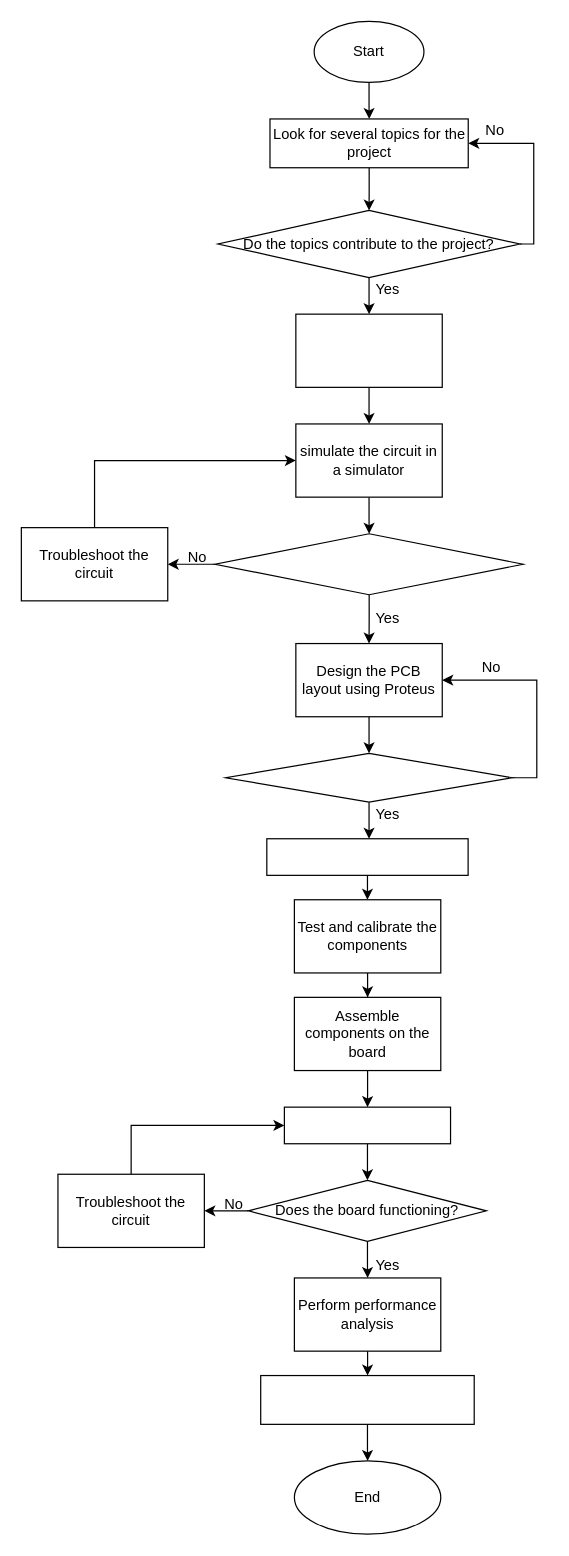
Image size: 569x1556. Some labels were removed from this diagram. The centre of each missing label's shape, as x and y in pixels:
Build the prototype of the project: point (366, 1399)
Construct the block diagram and the circuit: point (368, 350)
Does the circuit function as expected?: point (368, 564)
Finish designing the PCB layout?: point (368, 777)
Test the board: point (367, 1125)
Work on PCB fabrication: point (367, 856)
